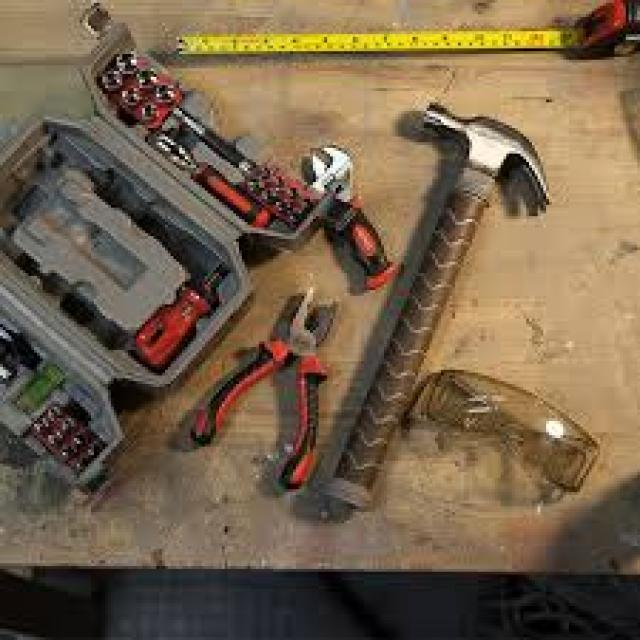hammer: (384, 82, 552, 454)
